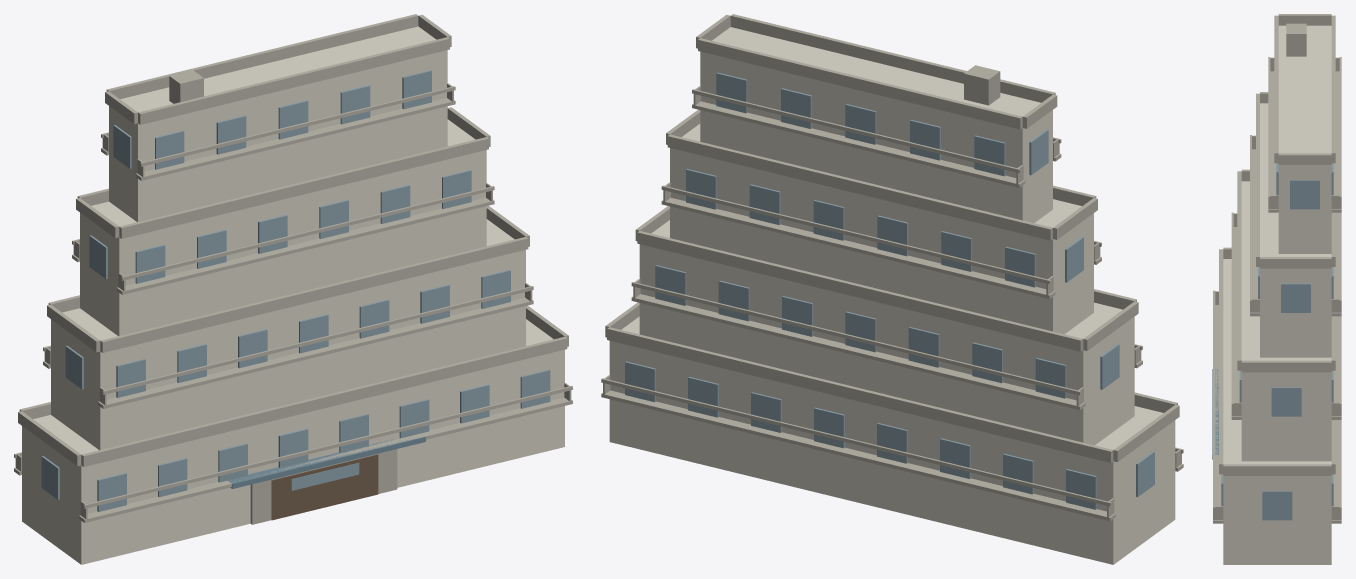
File: residential_4x1_terraces.glb
3 renders of one model, left to right at view 1: azimuth 30°, elevation 25°; view 2: azimuth 150°, elevation 25°; view 3: azimuth 270°, elevation 25°, orthographic. The views are drawn at different scales.
Parts seen in each view (by area): view 1: residential_4x1_terraces_0; view 2: residential_4x1_terraces_0; view 3: residential_4x1_terraces_0.
Part boxes in pixels (bbox=[...]): residential_4x1_terraces_0: bbox=[14, 14, 572, 564]; residential_4x1_terraces_0: bbox=[601, 14, 1183, 564]; residential_4x1_terraces_0: bbox=[1212, 14, 1341, 564].
Bounding box in the file's own units: 31 × 25.5 × 7.75.
